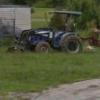Tractor: (18, 23, 91, 57)
